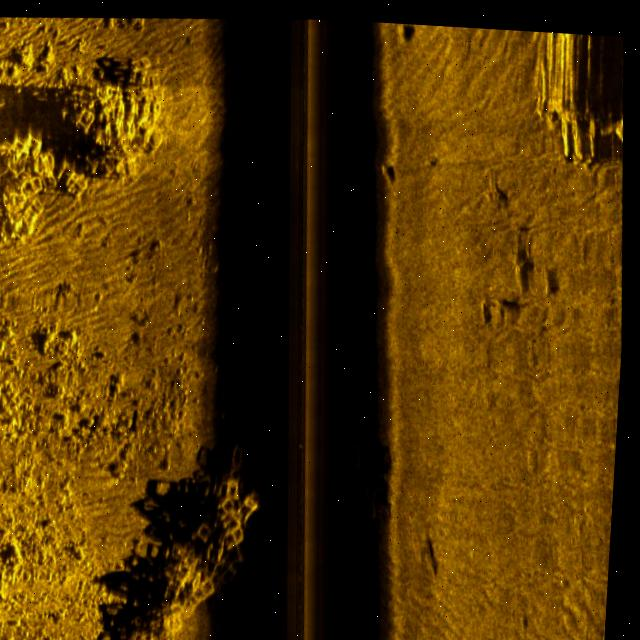artificial reef: (88, 438, 273, 640), (0, 63, 175, 261), (342, 423, 395, 535)
